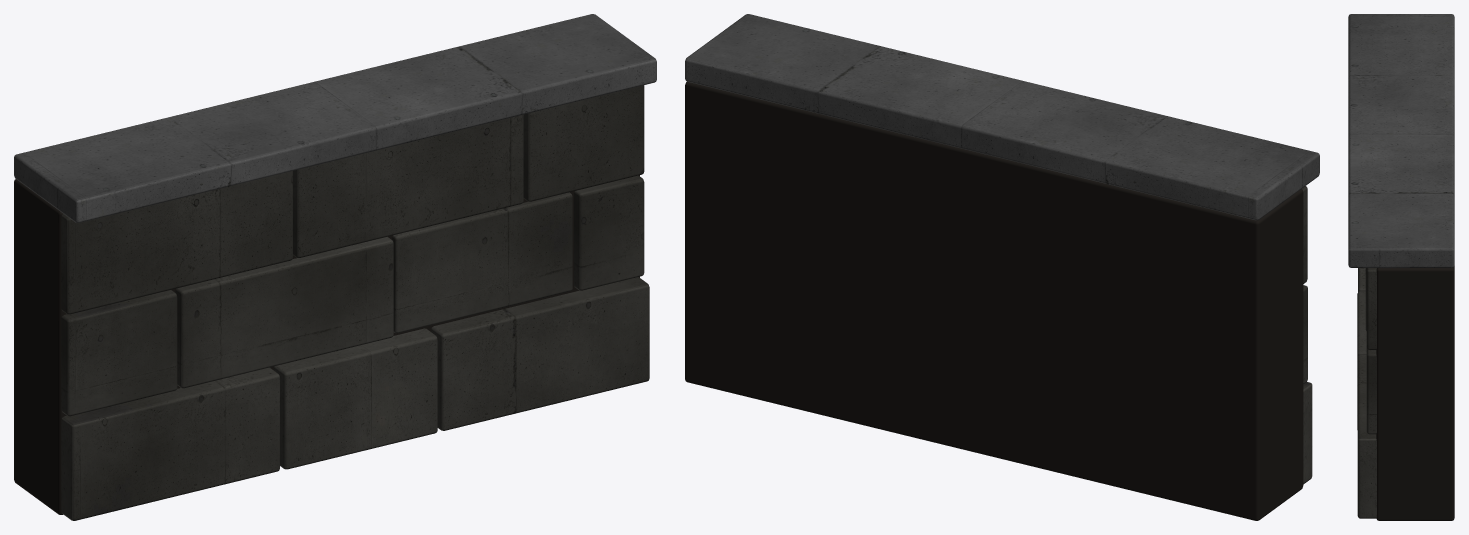
File: Wall_Low.gltf
3 views of the same model, side by side, from view 1: azimuth 30°, elevation 25°; view 2: azimuth 150°, elevation 25°; view 3: azimuth 270°, elevation 25° (orthographic). The views are drawn at different scales.
Visible parts, largest first — view 1: Wall_Low_Body; view 2: Wall_Low_Body; view 3: Wall_Low_Body.
Boxes of the visible parts, x1,y1,x2,y2 form: Wall_Low_Body: [14, 14, 656, 520]; Wall_Low_Body: [685, 14, 1319, 520]; Wall_Low_Body: [1348, 14, 1454, 520].
Size of what is drawn, in the model's own units: 2 by 1.08 by 0.38.
Materials: 3 (2 with a texture image).
